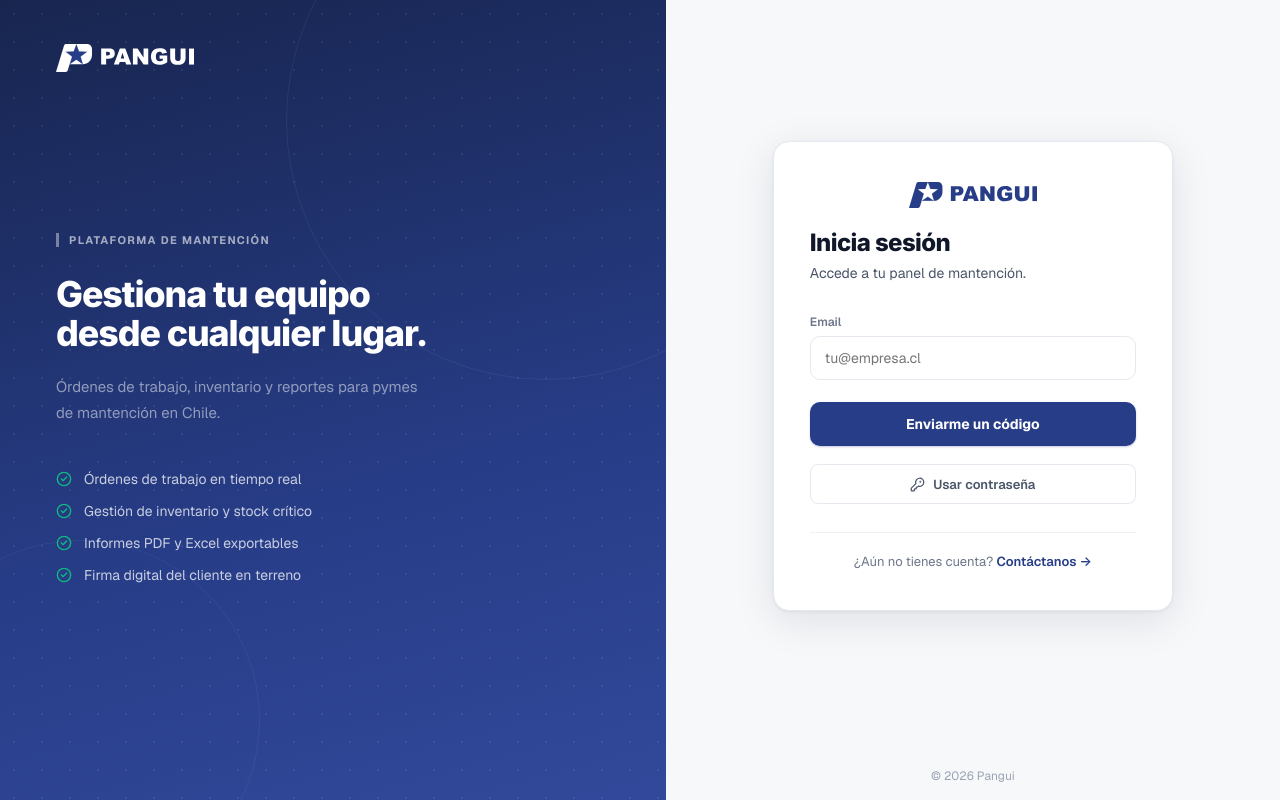
it: LoginPage › renders email and password fields
The image size is (1280, 800).
Click the button "Usar contraseña".
click(973, 484)  # box [810, 464, 1136, 504]
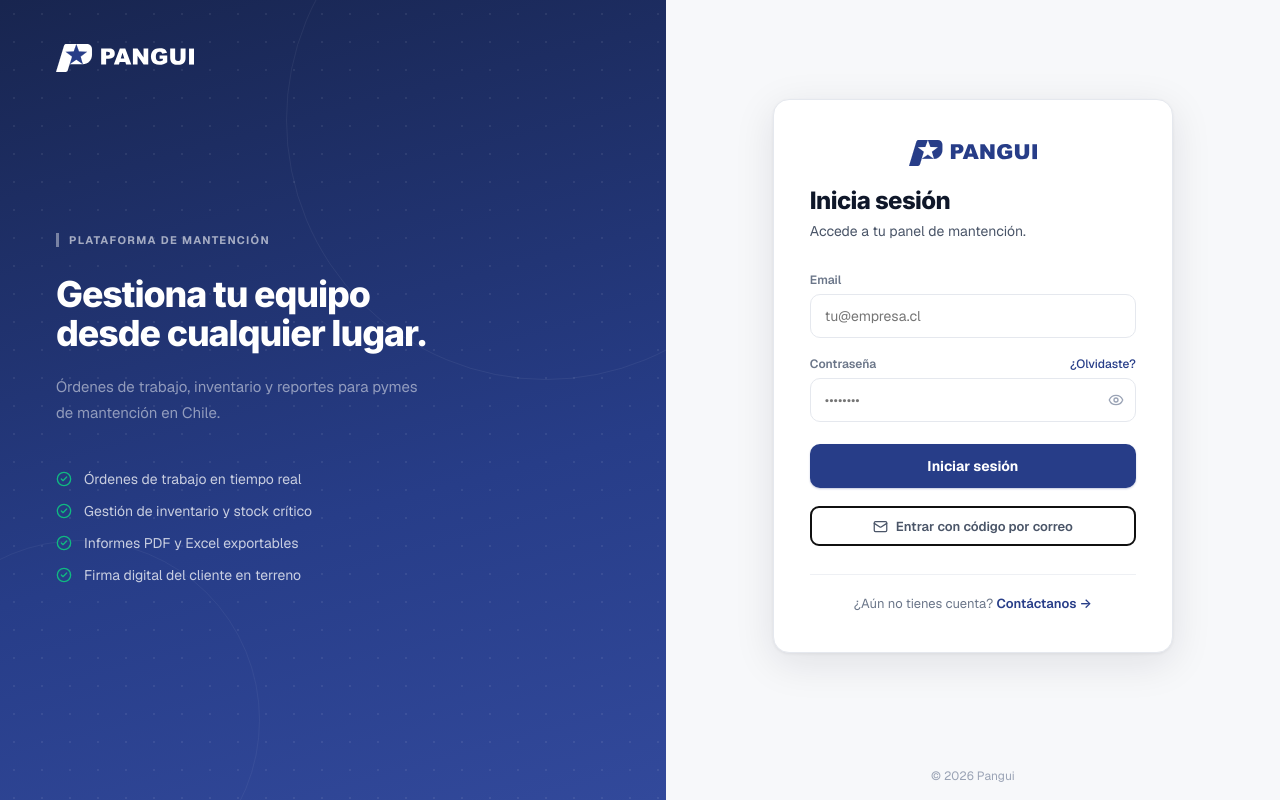
Expected: the field with placeholder "tu@empresa.cl" is shown, [810, 294, 1136, 338]
Now the password field with placeholder "••••••••" is shown, box [810, 378, 1136, 422]
